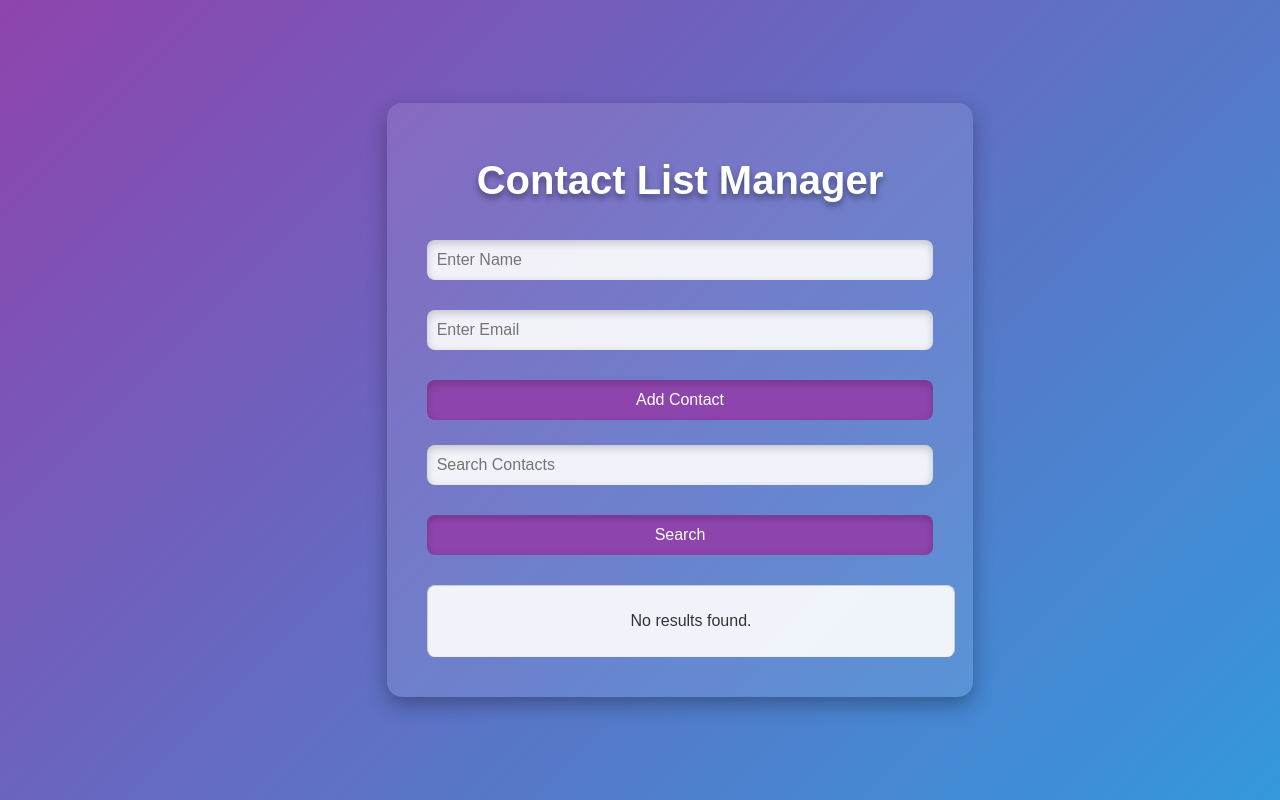
Scenario: searches for a contact and displays the result
The image size is (1280, 800).
Enter search query
Step 1. Type "Search Result" into the field with placeholder "Search Contacts" → x=680, y=465, box 427,445 -> 933,485
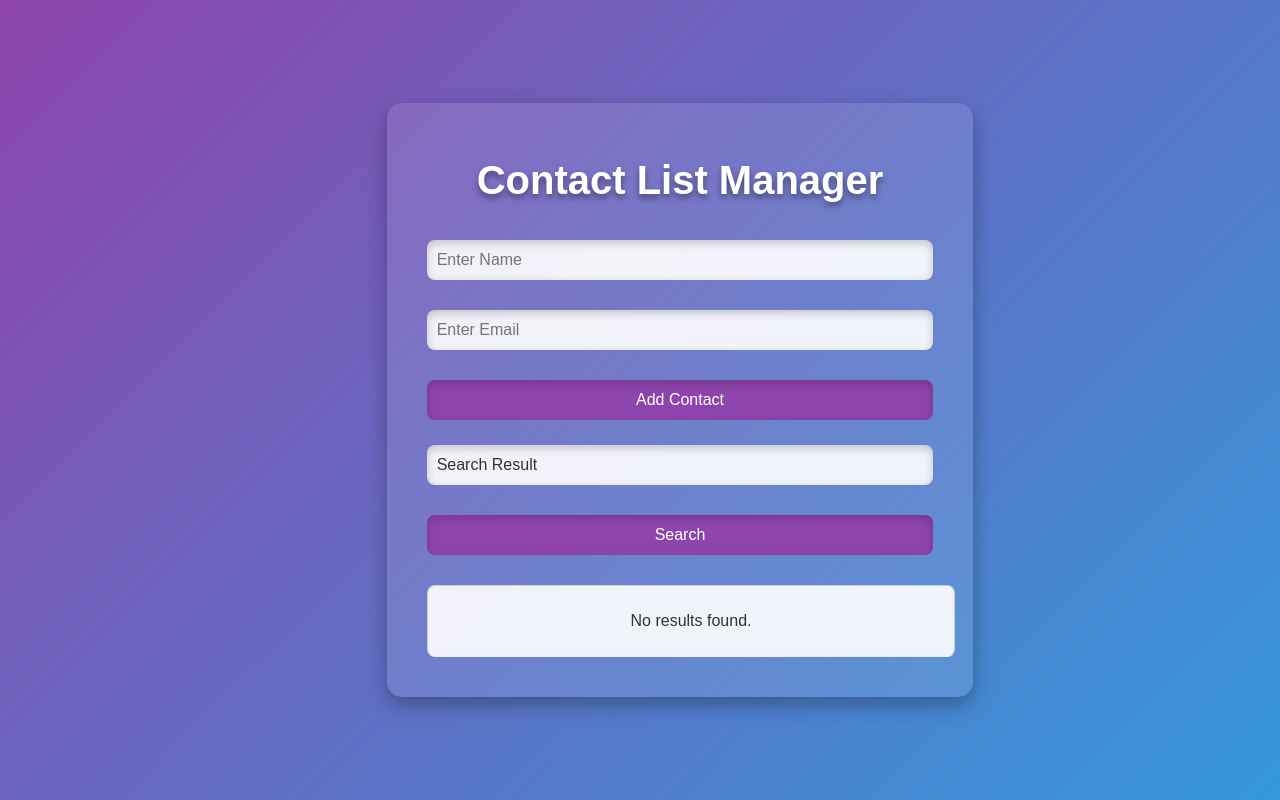
Click the "Search" button
Step 2. Click the button "Search" → x=680, y=535, box 427,515 -> 933,555
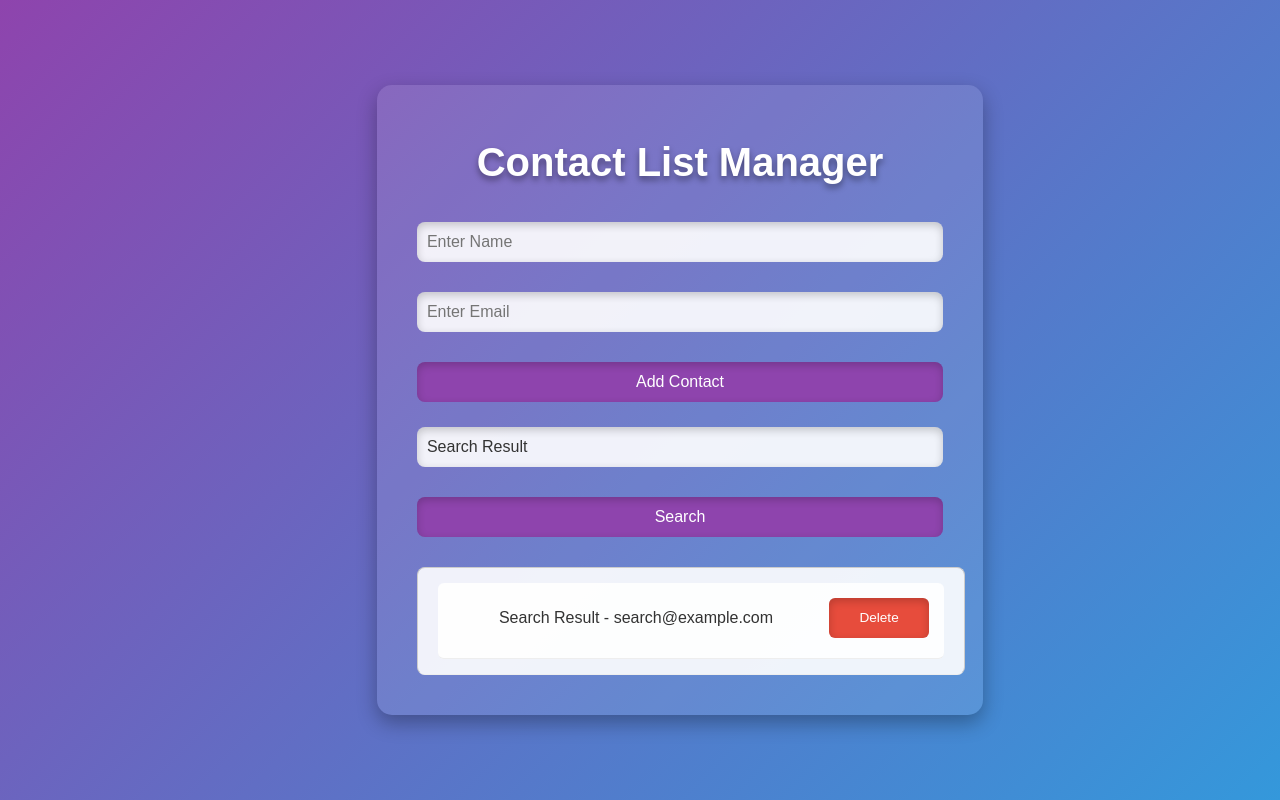
Check: the text "Search Result - search@example.com" is shown, box 499,609 -> 773,626
